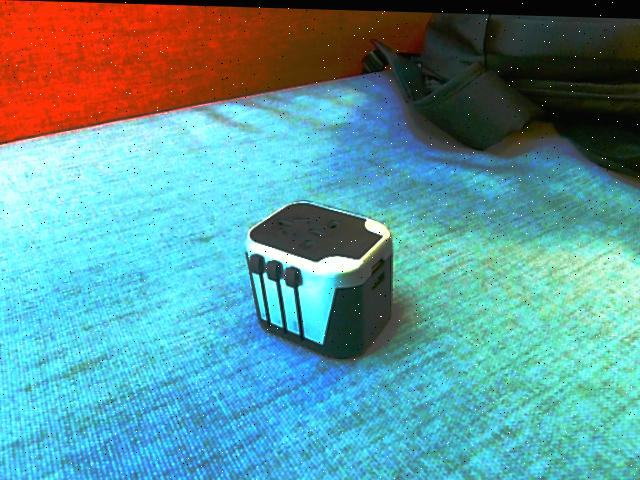adapter: (243, 197, 393, 358)
